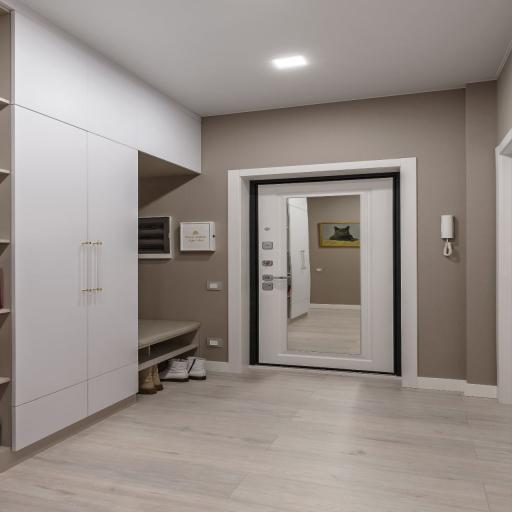bus: (12, 106, 138, 451)
car: (0, 0, 512, 512)
child: (256, 178, 400, 374)
